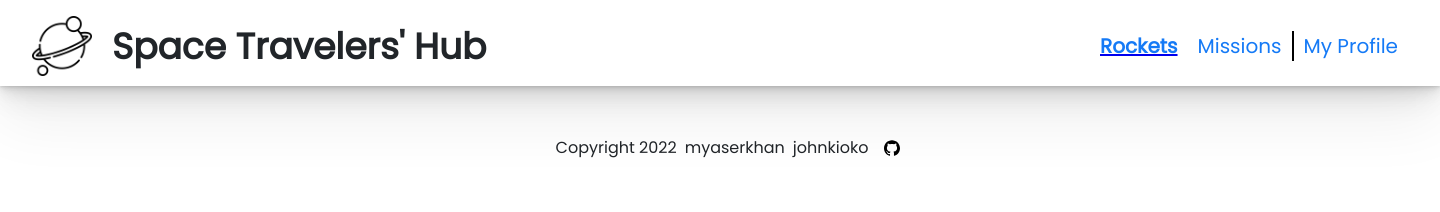
Test: when you click the missions link › should render missions page content
What coordinates should you click on to do the following:
click the link "Missions"
I would click on:
 (1240, 46)
Its box is [1198,32,1282,60].
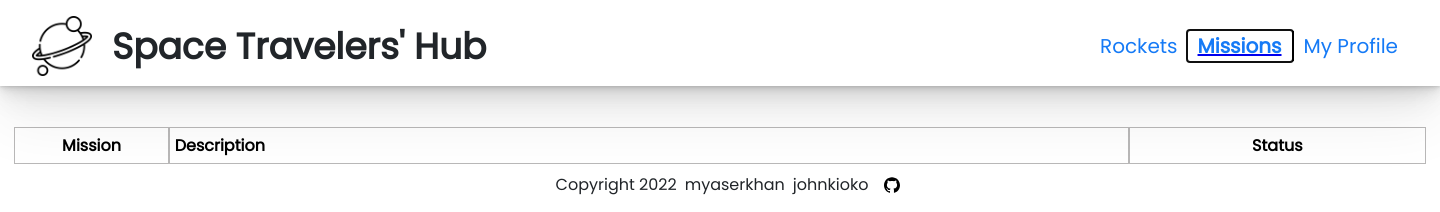
Check: the text "Description" is shown, box [169,127,1129,164]
